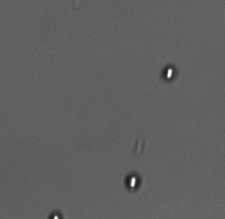Living Cell: (124, 171, 142, 191), (160, 64, 178, 82)
